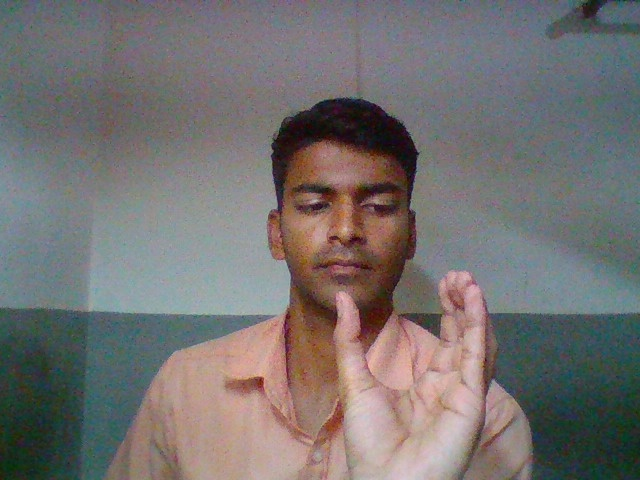U: (319, 263, 525, 480)
